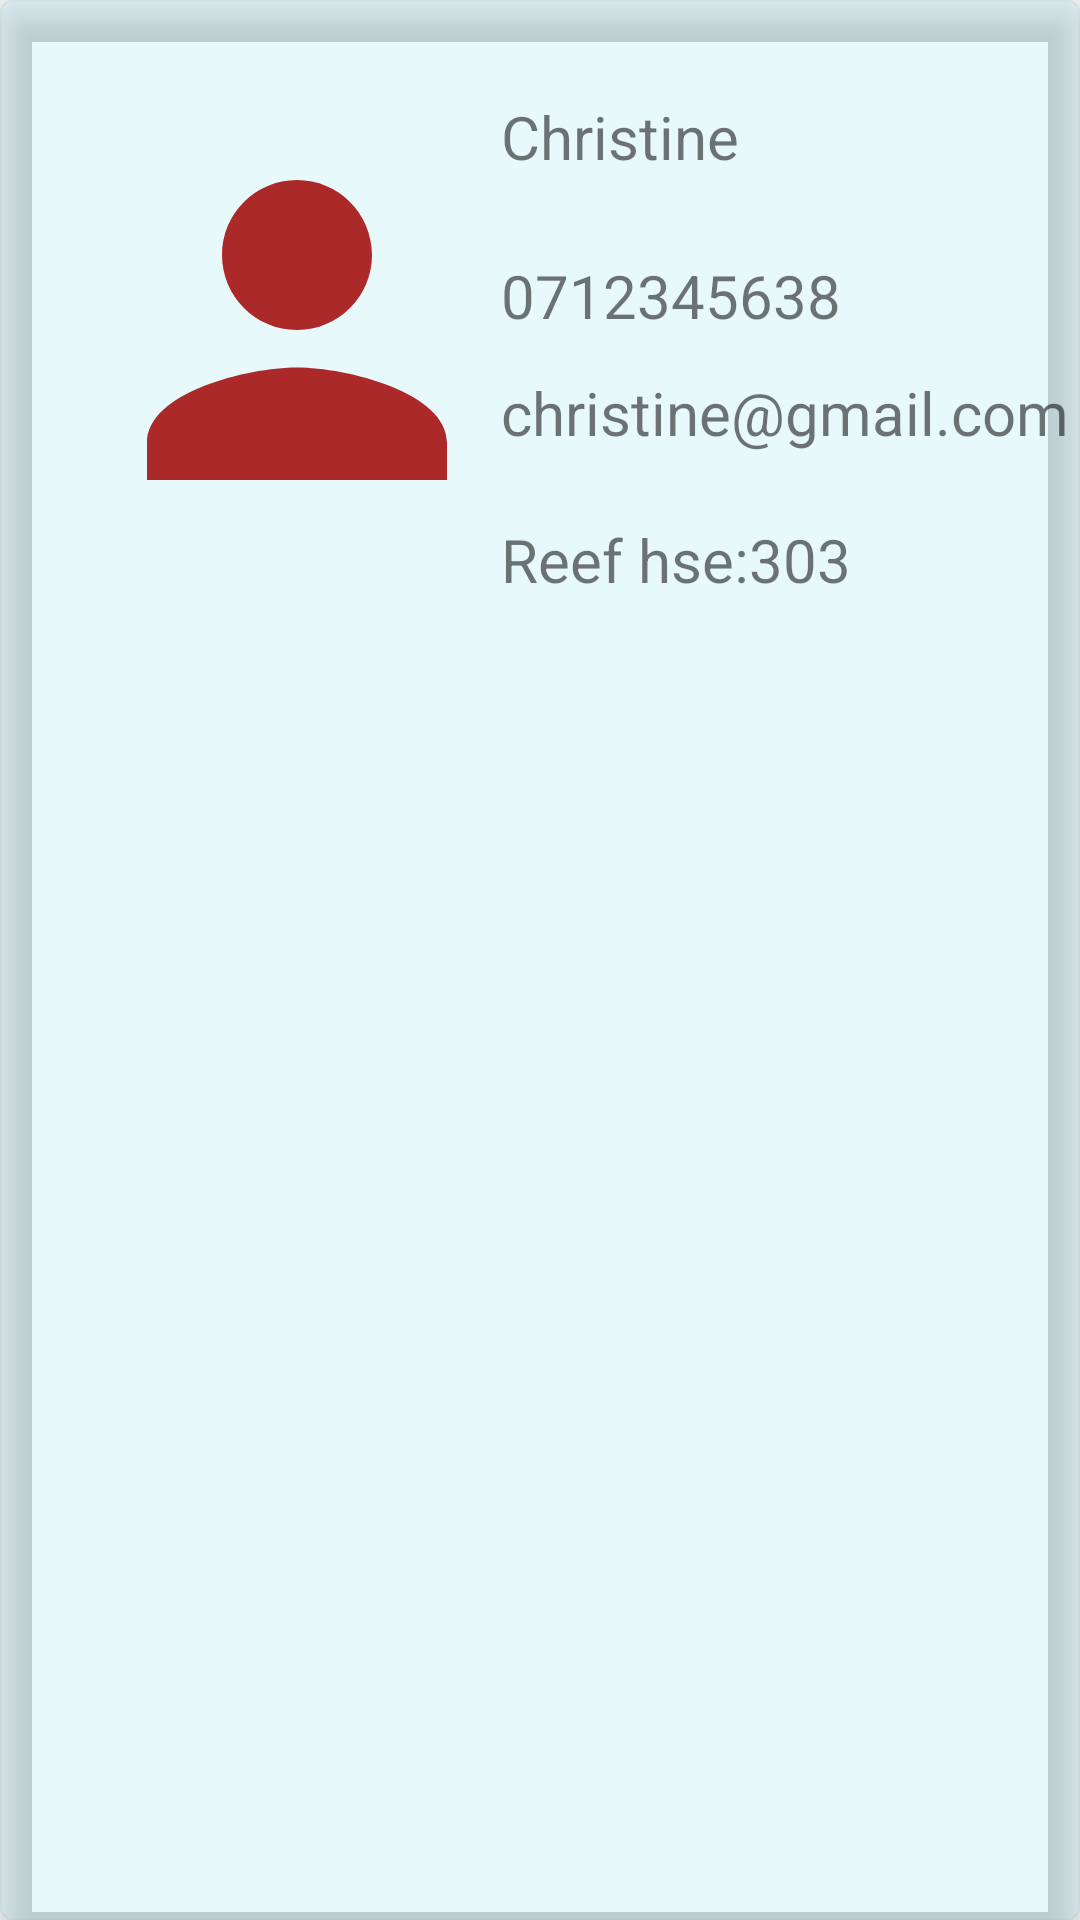

Where to tap for icons on this 1080×1920 app screen, as (x=x, y=y):
person: (x=297, y=330)
